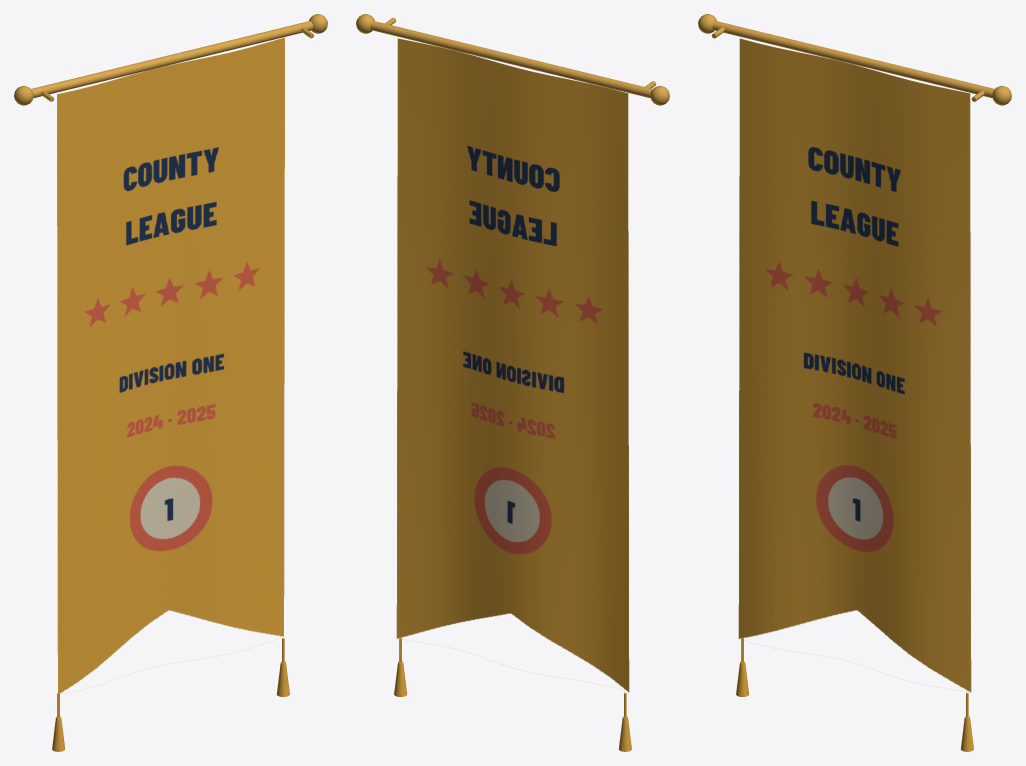
File: banner_4.glb
3 views of the same model, side by side, from view 1: azimuth 30°, elevation 25°; view 2: azimuth 150°, elevation 25°; view 3: azimuth 330°, elevation 25° (orthographic).
Parts seen in each view (by area): view 1: Banner4Mesh; view 2: Banner4Mesh; view 3: Banner4Mesh.
Boxes of the visible parts, x1=… form: Banner4Mesh: x1=14, y1=14, x2=327, y2=751; Banner4Mesh: x1=356, y1=14, x2=669, y2=751; Banner4Mesh: x1=698, y1=14, x2=1011, y2=751.
Bounding box in the file's own units: 1.63 × 3.35 × 0.145.
3 materials, 1 textured.
